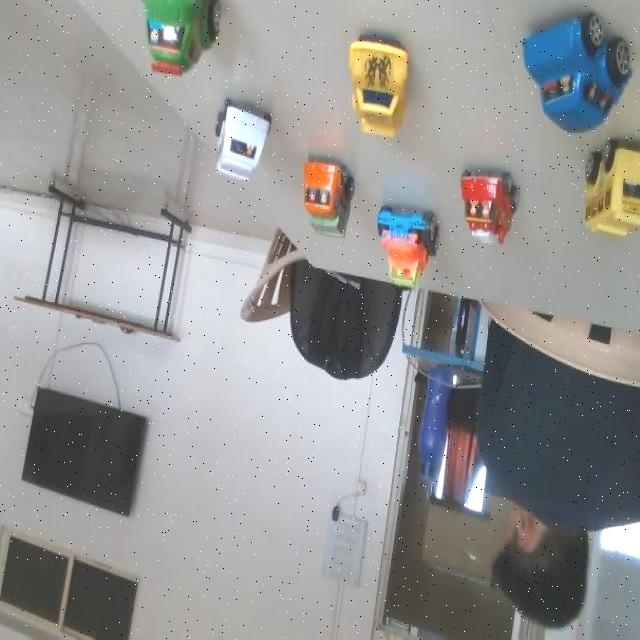car: (60, 0, 265, 121), (291, 3, 450, 149), (180, 73, 287, 205), (516, 10, 606, 129), (370, 198, 454, 304), (290, 137, 358, 256), (450, 157, 513, 247), (572, 148, 638, 224)
